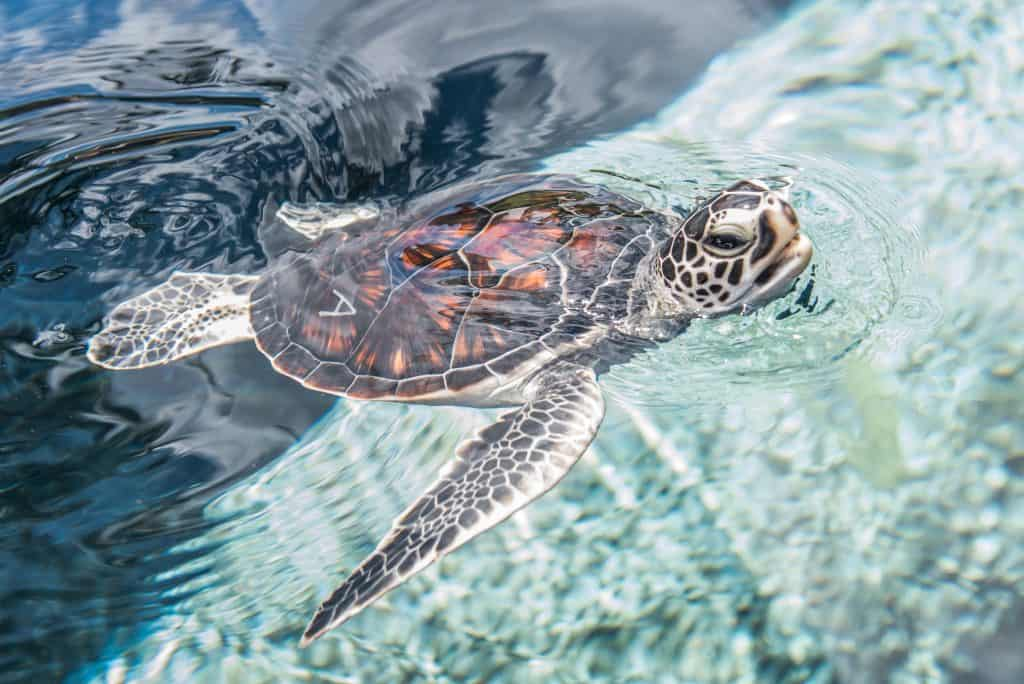eye: (705, 222, 754, 260)
mouth: (753, 222, 815, 301)
